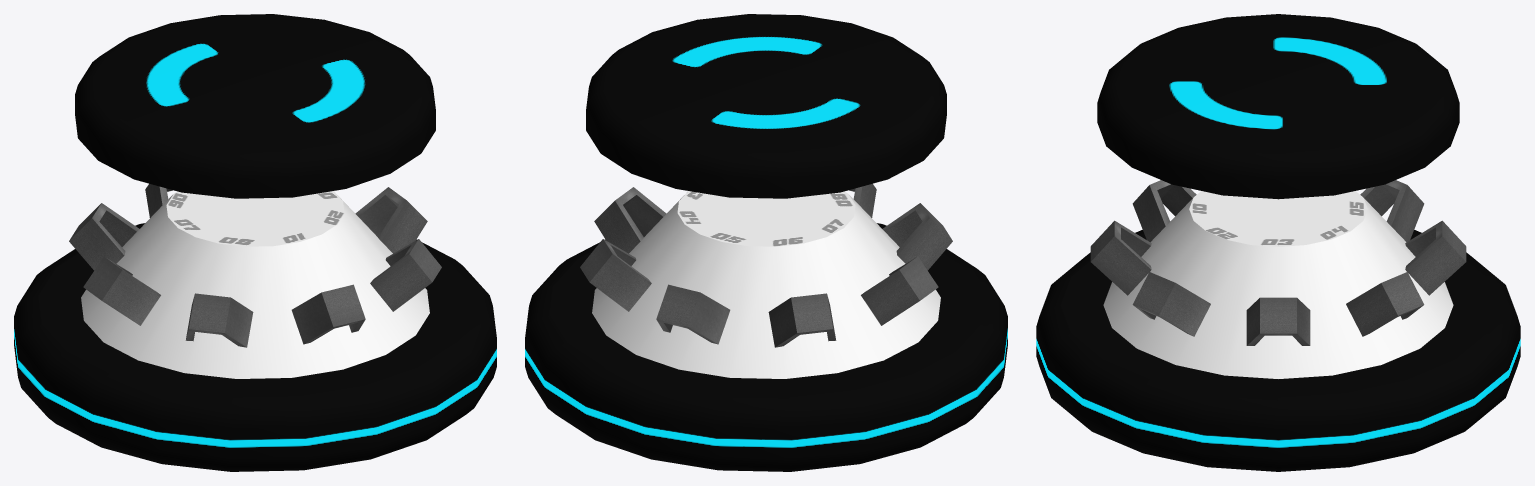
3 renders of one model, left to right at view 1: azimuth 30°, elevation 25°; view 2: azimuth 150°, elevation 25°; view 3: azimuth 270°, elevation 25°, orthographic.
Visible parts, largest first — view 1: Centrifuge_Base, Centrifuge_Rotate, Holder_02 (×6), Holder_01; view 2: Centrifuge_Base, Centrifuge_Rotate, Holder_02 (×6), Holder_01; view 3: Centrifuge_Base, Centrifuge_Rotate, Holder_02 (×6), Holder_01.
Boxes of the visible parts, bbox=[...] form: Centrifuge_Base: bbox=[14, 14, 496, 471]; Centrifuge_Rotate: bbox=[81, 191, 429, 378]; Holder_02 (×6): bbox=[69, 183, 441, 347]; Holder_01: bbox=[291, 284, 365, 344]; Centrifuge_Base: bbox=[525, 14, 1007, 471]; Centrifuge_Rotate: bbox=[592, 191, 940, 378]; Holder_02 (×6): bbox=[580, 187, 952, 347]; Holder_01: bbox=[849, 183, 876, 217]; Centrifuge_Base: bbox=[1036, 14, 1520, 471]; Centrifuge_Rotate: bbox=[1103, 191, 1453, 378]; Holder_02 (×6): bbox=[1132, 180, 1466, 345]; Holder_01: bbox=[1090, 220, 1151, 295].
Size of the model in its own units: 0.4739 by 0.3176 by 0.4739.
1 material, 1 textured.
